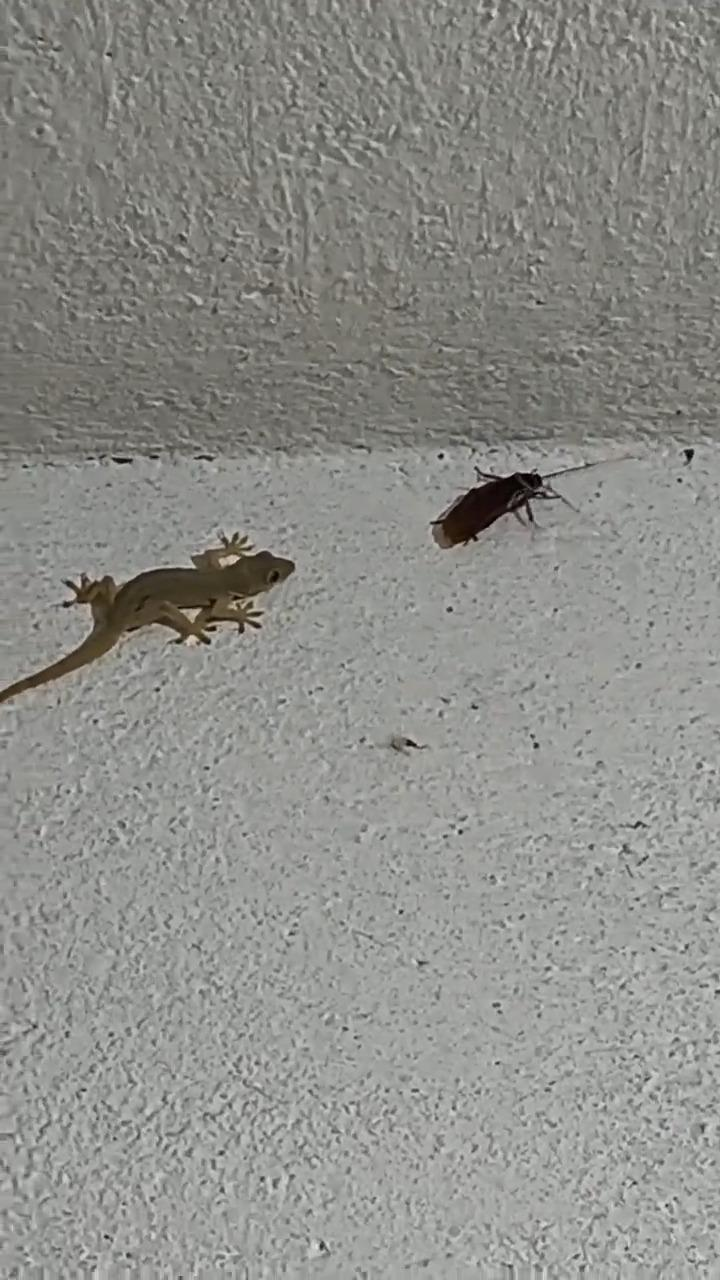cockroach: (411, 445, 641, 564)
lizard: (0, 518, 309, 704)
